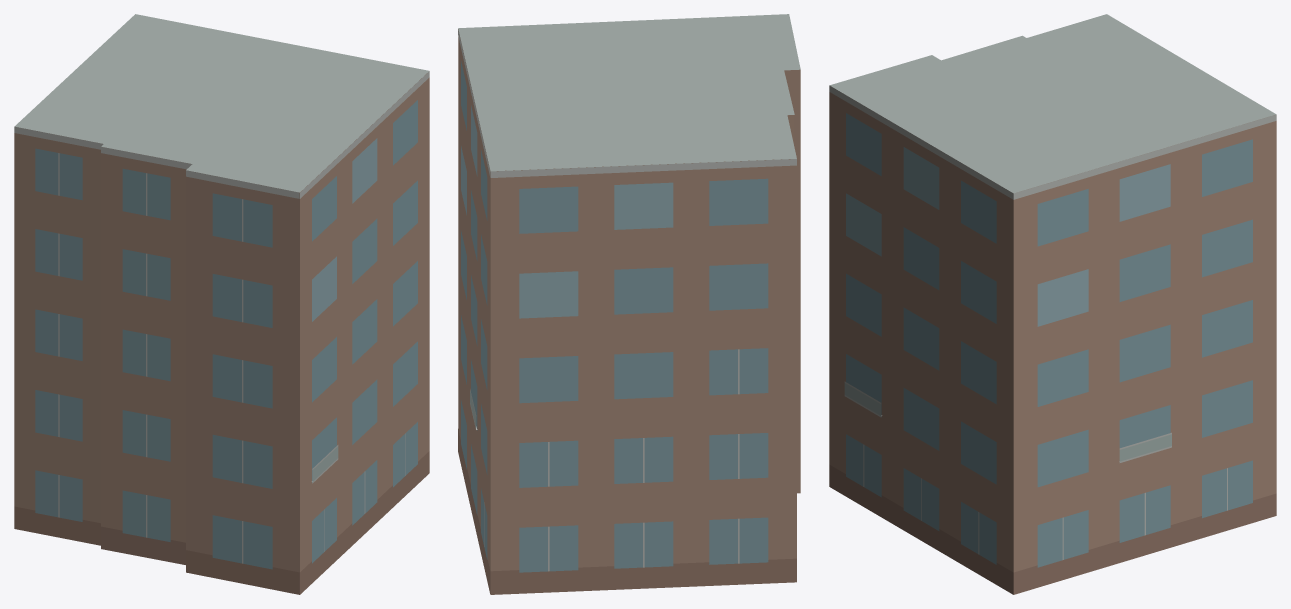
File: survey-upis-33004421.glb
3 views of the same model, side by side, from view 1: azimuth 30°, elevation 25°; view 2: azimuth 150°, elevation 25°; view 3: azimuth 270°, elevation 25° (orthographic). The views are drawn at different scales.
Visible parts, largest first — view 1: survey-upis-33004421.tmp; view 2: survey-upis-33004421.tmp; view 3: survey-upis-33004421.tmp.
Part boxes in pixels (bbox=[...]): survey-upis-33004421.tmp: bbox=[14, 14, 429, 594]; survey-upis-33004421.tmp: bbox=[458, 14, 800, 594]; survey-upis-33004421.tmp: bbox=[829, 14, 1276, 594].
Size of the model in its own units: 14.68 by 15.3 by 15.46.
